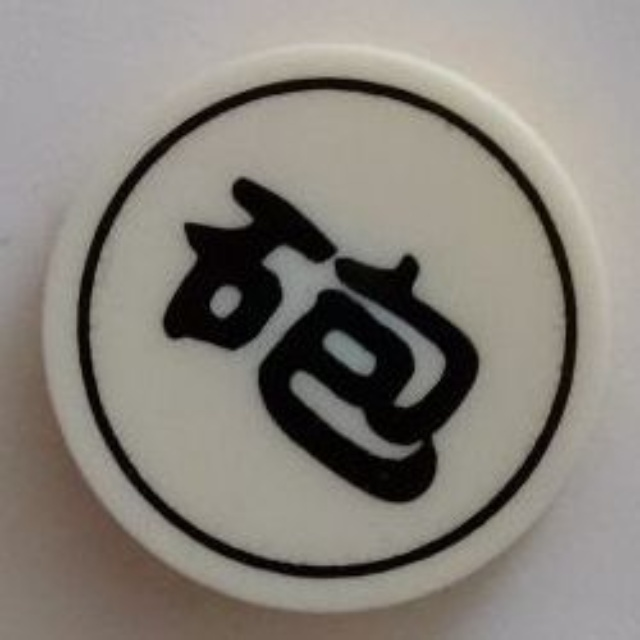black_phao: (37, 38, 615, 621)
